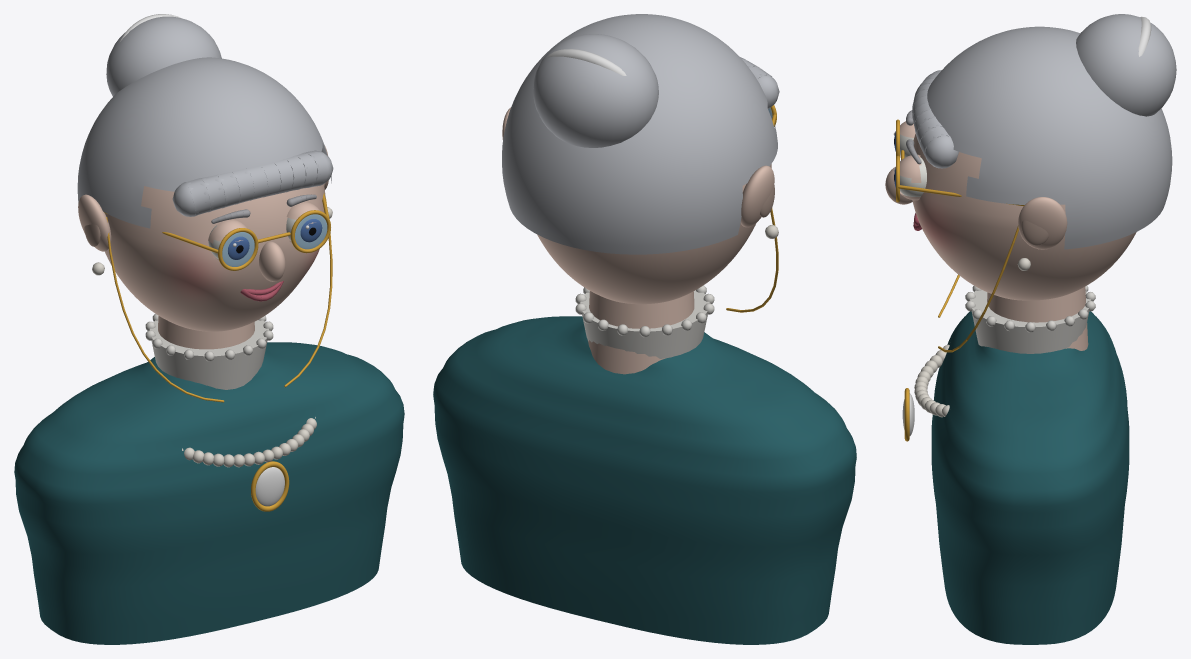
Rendered from magnate_matilda.fbx.
3 views of the same model, side by side, from view 1: azimuth 30°, elevation 25°; view 2: azimuth 150°, elevation 25°; view 3: azimuth 270°, elevation 25° (orthographic). The views are drawn at different scales.
Parts seen in each view (by area): view 1: magnate_matilda, magnate_matilda__head; view 2: magnate_matilda, magnate_matilda__head; view 3: magnate_matilda__head, magnate_matilda.
Boxes of the visible parts, x1,y1,x2,y2 form: magnate_matilda: (14, 314, 404, 644); magnate_matilda__head: (77, 14, 333, 402); magnate_matilda: (433, 285, 856, 644); magnate_matilda__head: (502, 14, 779, 312); magnate_matilda__head: (885, 14, 1176, 352); magnate_matilda: (902, 285, 1129, 644).
Bounding box in the file's own units: 1.41 × 1.98 × 0.9567.
